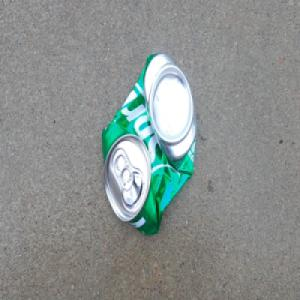SodaCan: (100, 51, 198, 240)
